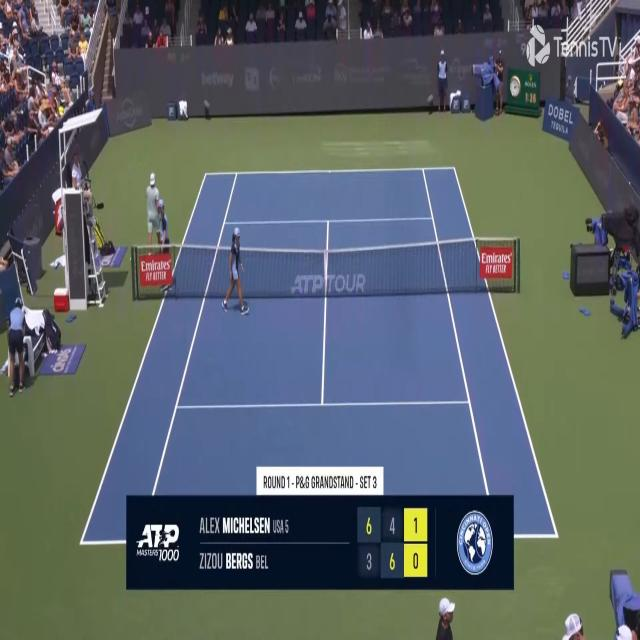tennis-player: (146, 170, 162, 244)
